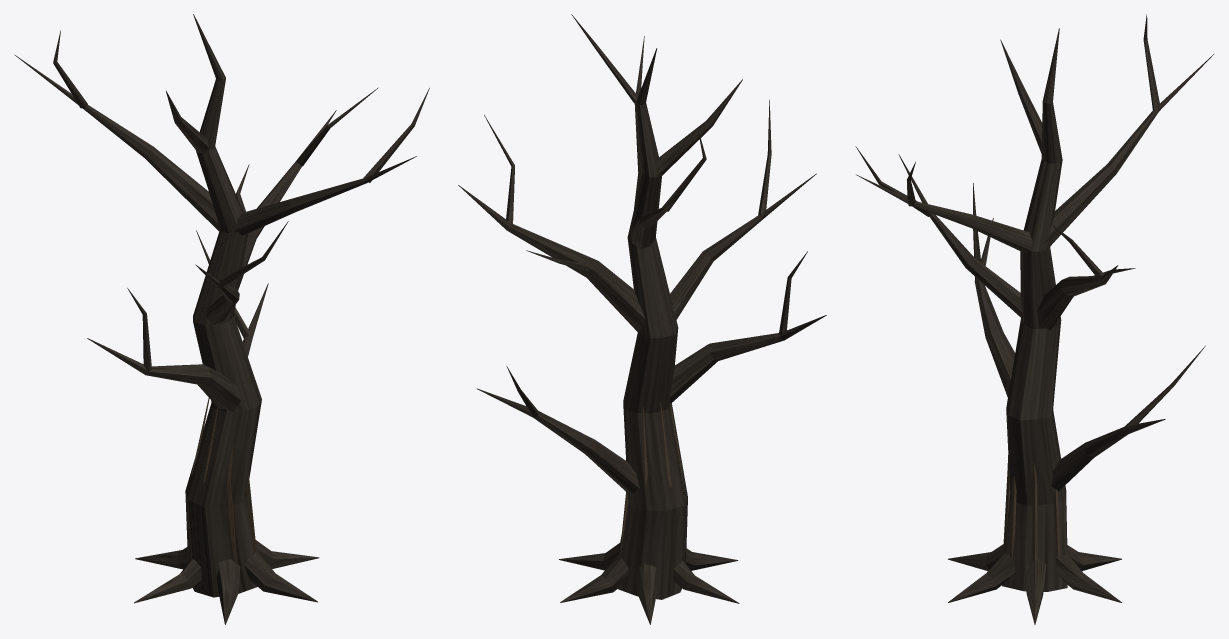
The model's file is env_dead_tree.fbx.
The picture shows the model from 3 angles, left to right: view 1: azimuth 30°, elevation 25°; view 2: azimuth 150°, elevation 25°; view 3: azimuth 270°, elevation 25°; orthographic projection. The views are drawn at different scales.
Visible parts, largest first — view 1: env_dead_tree; view 2: env_dead_tree; view 3: env_dead_tree.
Part boxes in pixels (x1=…): env_dead_tree: x1=14, y1=14, x2=429, y2=624; env_dead_tree: x1=458, y1=14, x2=826, y2=624; env_dead_tree: x1=855, y1=14, x2=1213, y2=624.
Size of the model in its own units: 250 by 250 by 420.
1 material, 1 textured.
